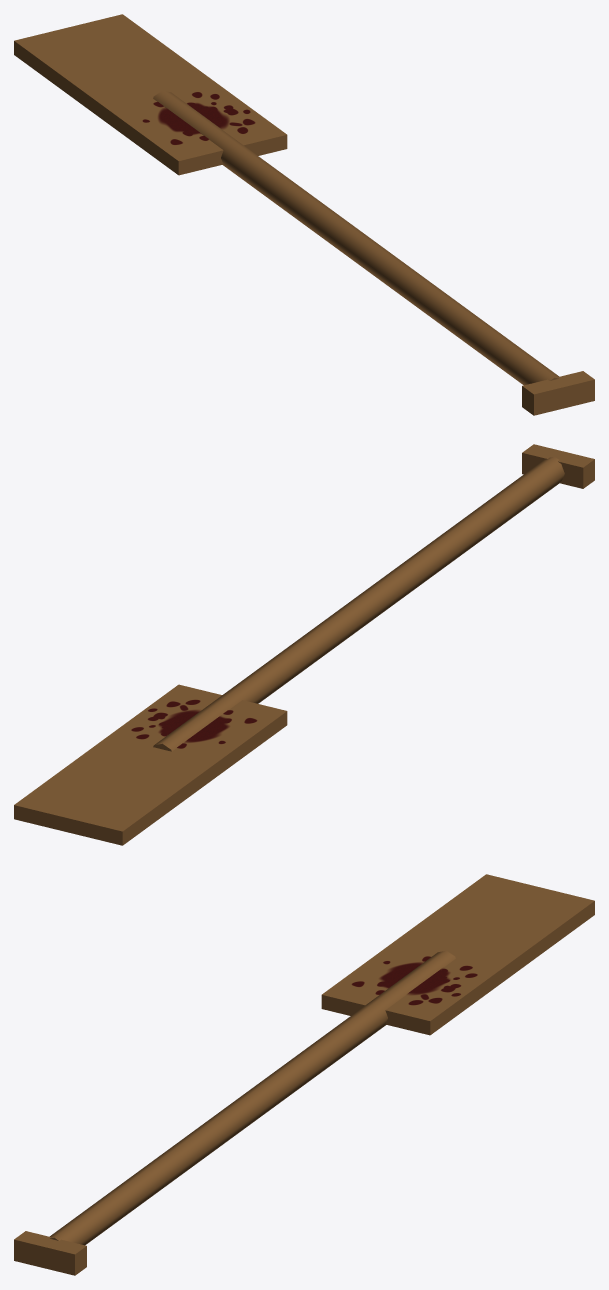
The model's file is caso1_remo.glb.
3 renders of one model, top to bottom at view 1: azimuth 30°, elevation 25°; view 2: azimuth 150°, elevation 25°; view 3: azimuth 330°, elevation 25°, orthographic.
Visible parts, largest first — view 1: Pala, Mango, Puno, SangreB; view 2: Pala, Mango, SangreB, Puno; view 3: Pala, Mango, Puno, SangreB.
Boxes of the visible parts, left/top/right/bottom form: Pala: left=14, top=14, right=287, bottom=175; Mango: left=153, top=90, right=558, bottom=385; Puno: left=522, top=371, right=594, bottom=415; SangreB: left=142, top=92, right=255, bottom=144; Pala: left=14, top=684, right=287, bottom=845; Mango: left=153, top=456, right=564, bottom=751; SangreB: left=131, top=699, right=257, bottom=748; Puno: left=522, top=444, right=594, bottom=488; Pala: left=321, top=874, right=594, bottom=1035; Mango: left=50, top=950, right=455, bottom=1245; Puno: left=14, top=1231, right=86, bottom=1275; SangreB: left=351, top=956, right=477, bottom=1005.
Bounding box in the file's own units: 0.17 × 0.036 × 1.26.
Materials: 2 (1 with a texture image).
